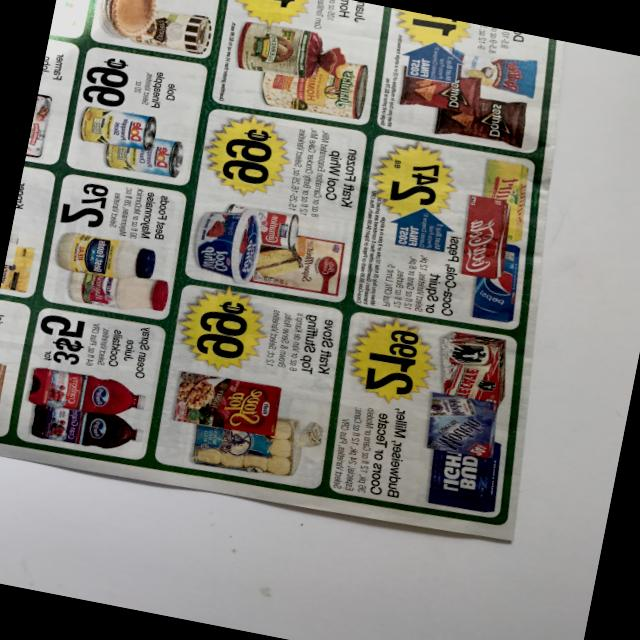Paper: (0, 0, 609, 558)
